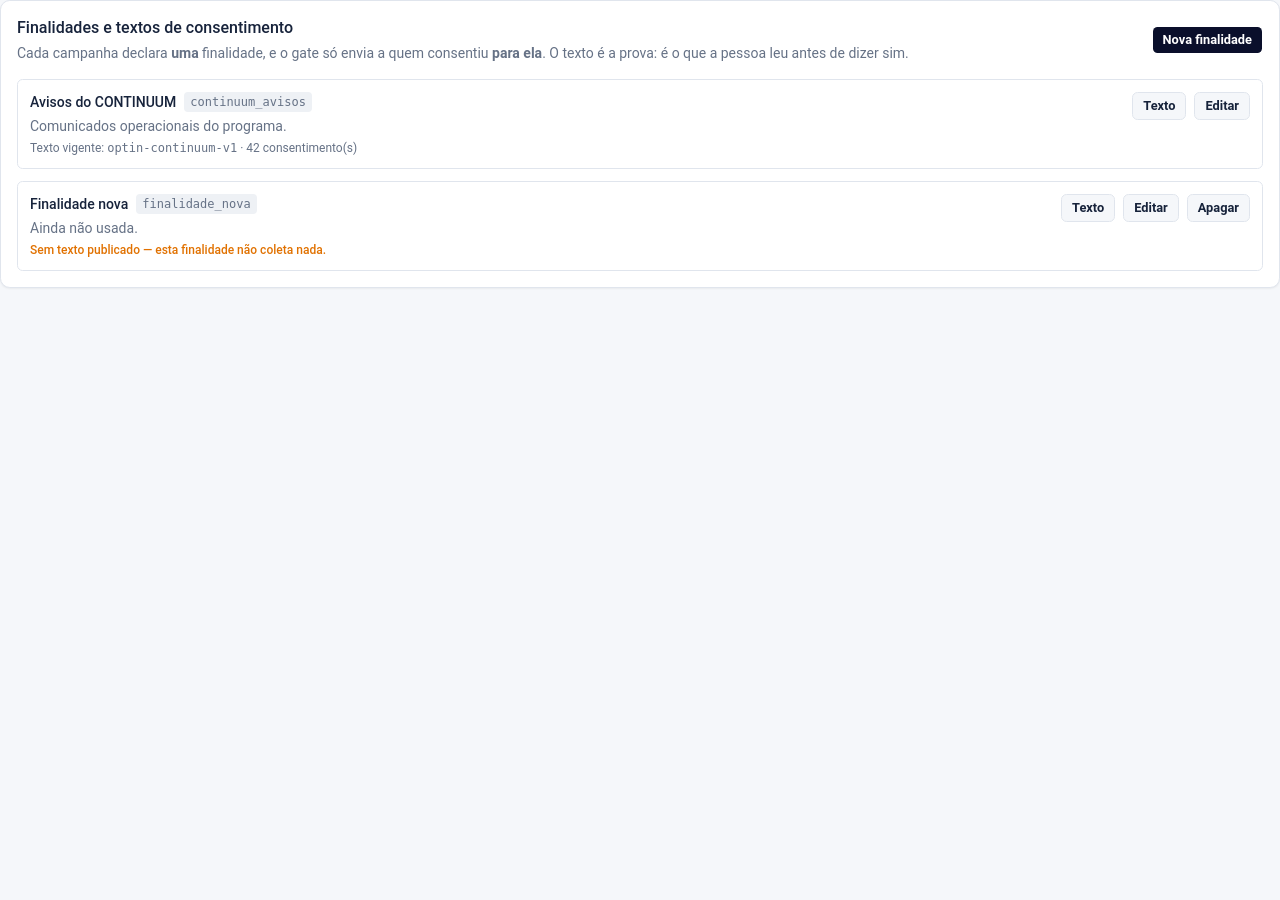
Test: PurposesAdmin — criar finalidade › não deixa criar sem chave/rótulo/descrição
What coordinates should you click on to do the following:
click the button "Nova finalidade"
I would click on:
 (1207, 40)
Its box is [1152,26,1263,54].
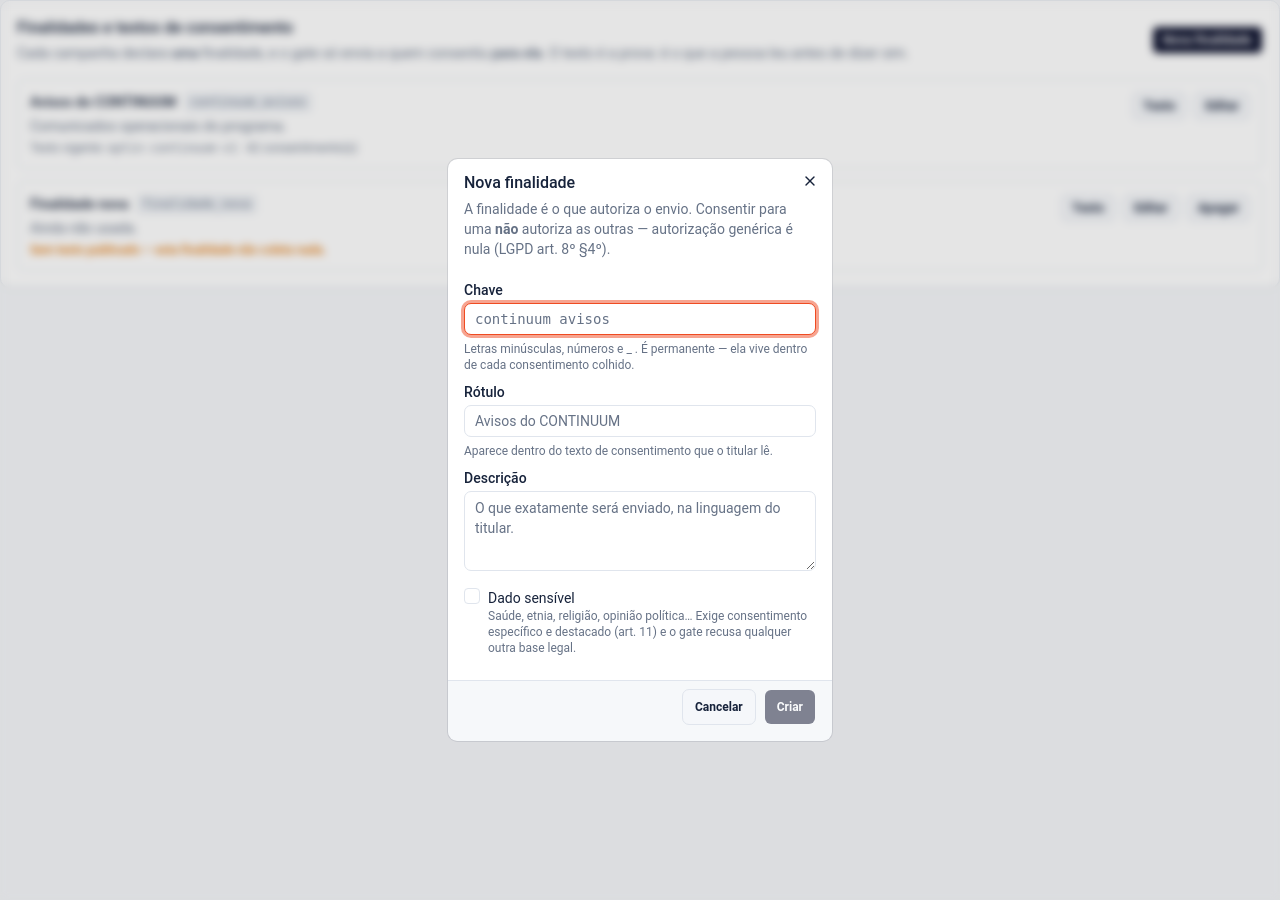
Now the button "Criar" is disabled, box [764,689,816,725]
